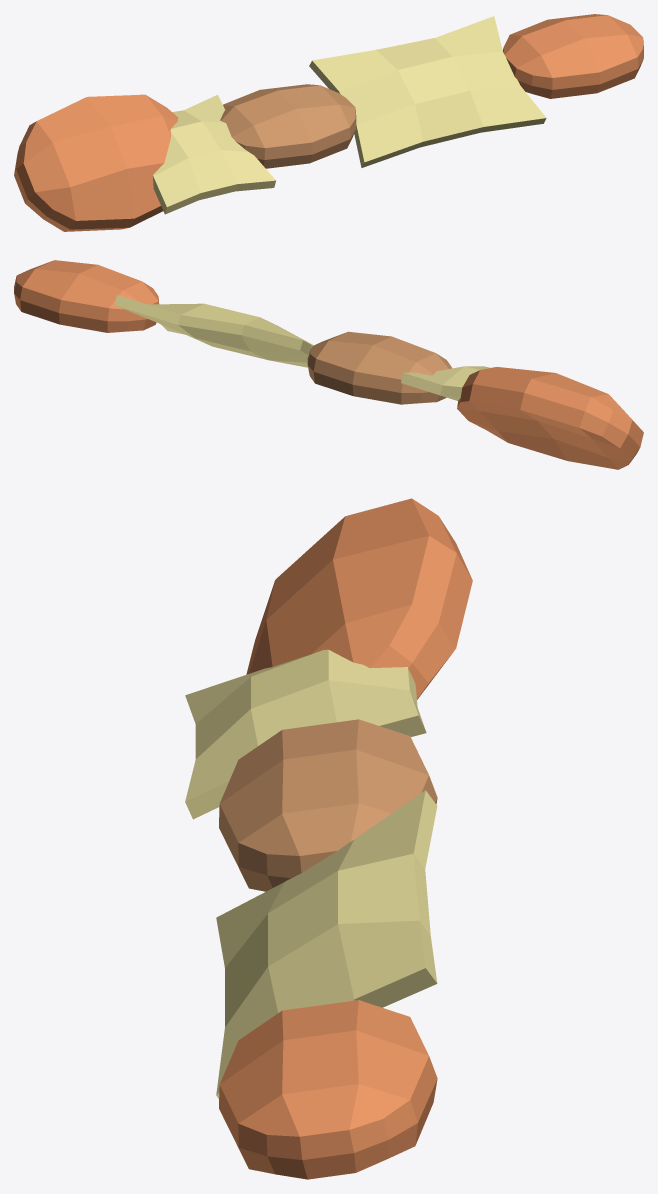
Rendered from pillow.fbx.
3 renders of one model, top to bottom at view 1: azimuth 30°, elevation 25°; view 2: azimuth 150°, elevation 25°; view 3: azimuth 270°, elevation 25°, orthographic. The views are drawn at different scales.
Parts seen in each view (by area): view 1: pillow; view 2: pillow; view 3: pillow.
Boxes of the visible parts, x1,y1,x2,y2 form: pillow: (14,14,643,231); pillow: (14,260,643,469); pillow: (185,498,472,1179).
Bounding box in the file's own units: 491 × 82.26 × 101.
